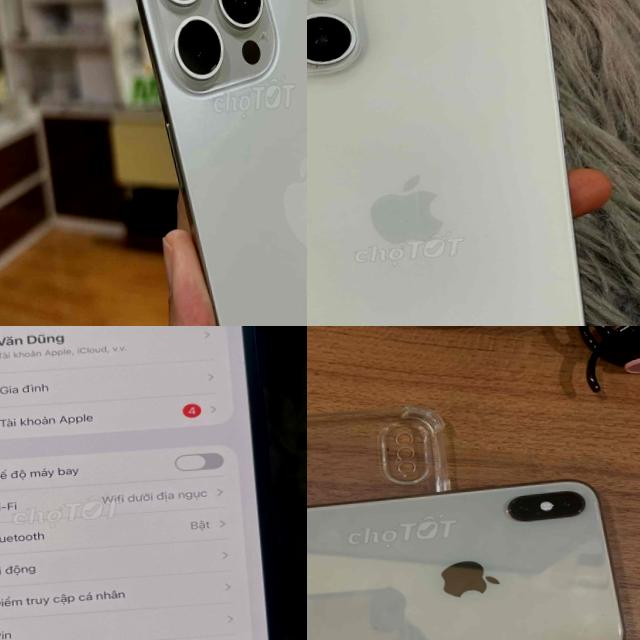gen_12_13: (0, 326, 294, 640), (104, 0, 307, 326)
gen_15: (307, 0, 604, 326)
gen_x_xs: (307, 481, 622, 640)
scratch: (307, 0, 357, 78)
